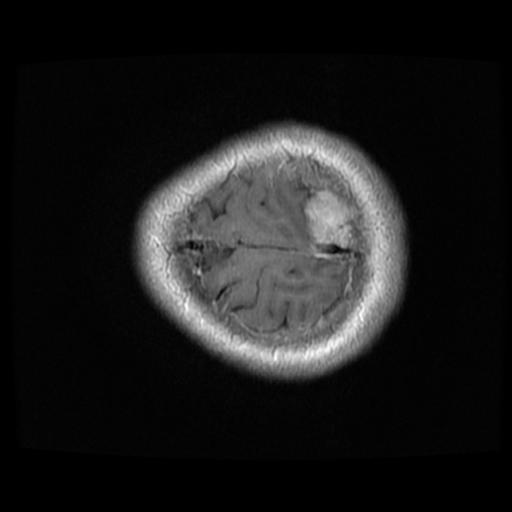meningioma: (302, 188, 355, 249)
